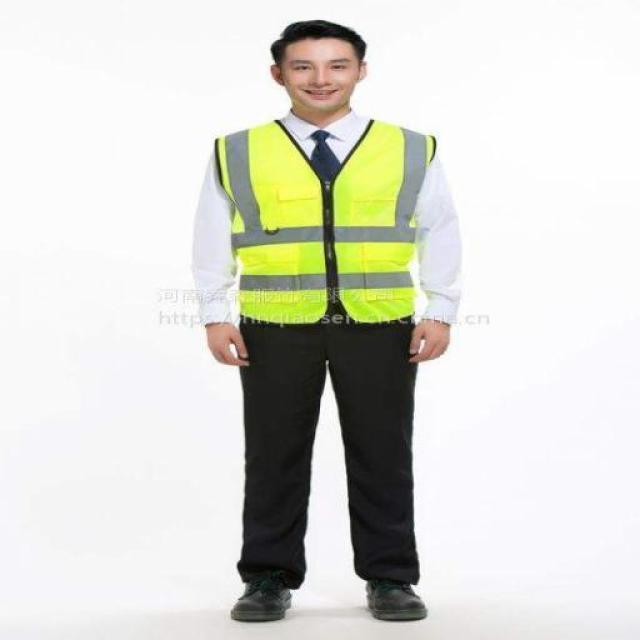face_nomask: (281, 49, 355, 105)
hand_noglove: (192, 314, 254, 372), (398, 318, 453, 369)
head_nohelmet: (258, 15, 376, 64)
person: (170, 10, 484, 632)
shoes: (222, 569, 302, 627), (347, 576, 432, 628)
vest: (209, 118, 445, 330)
